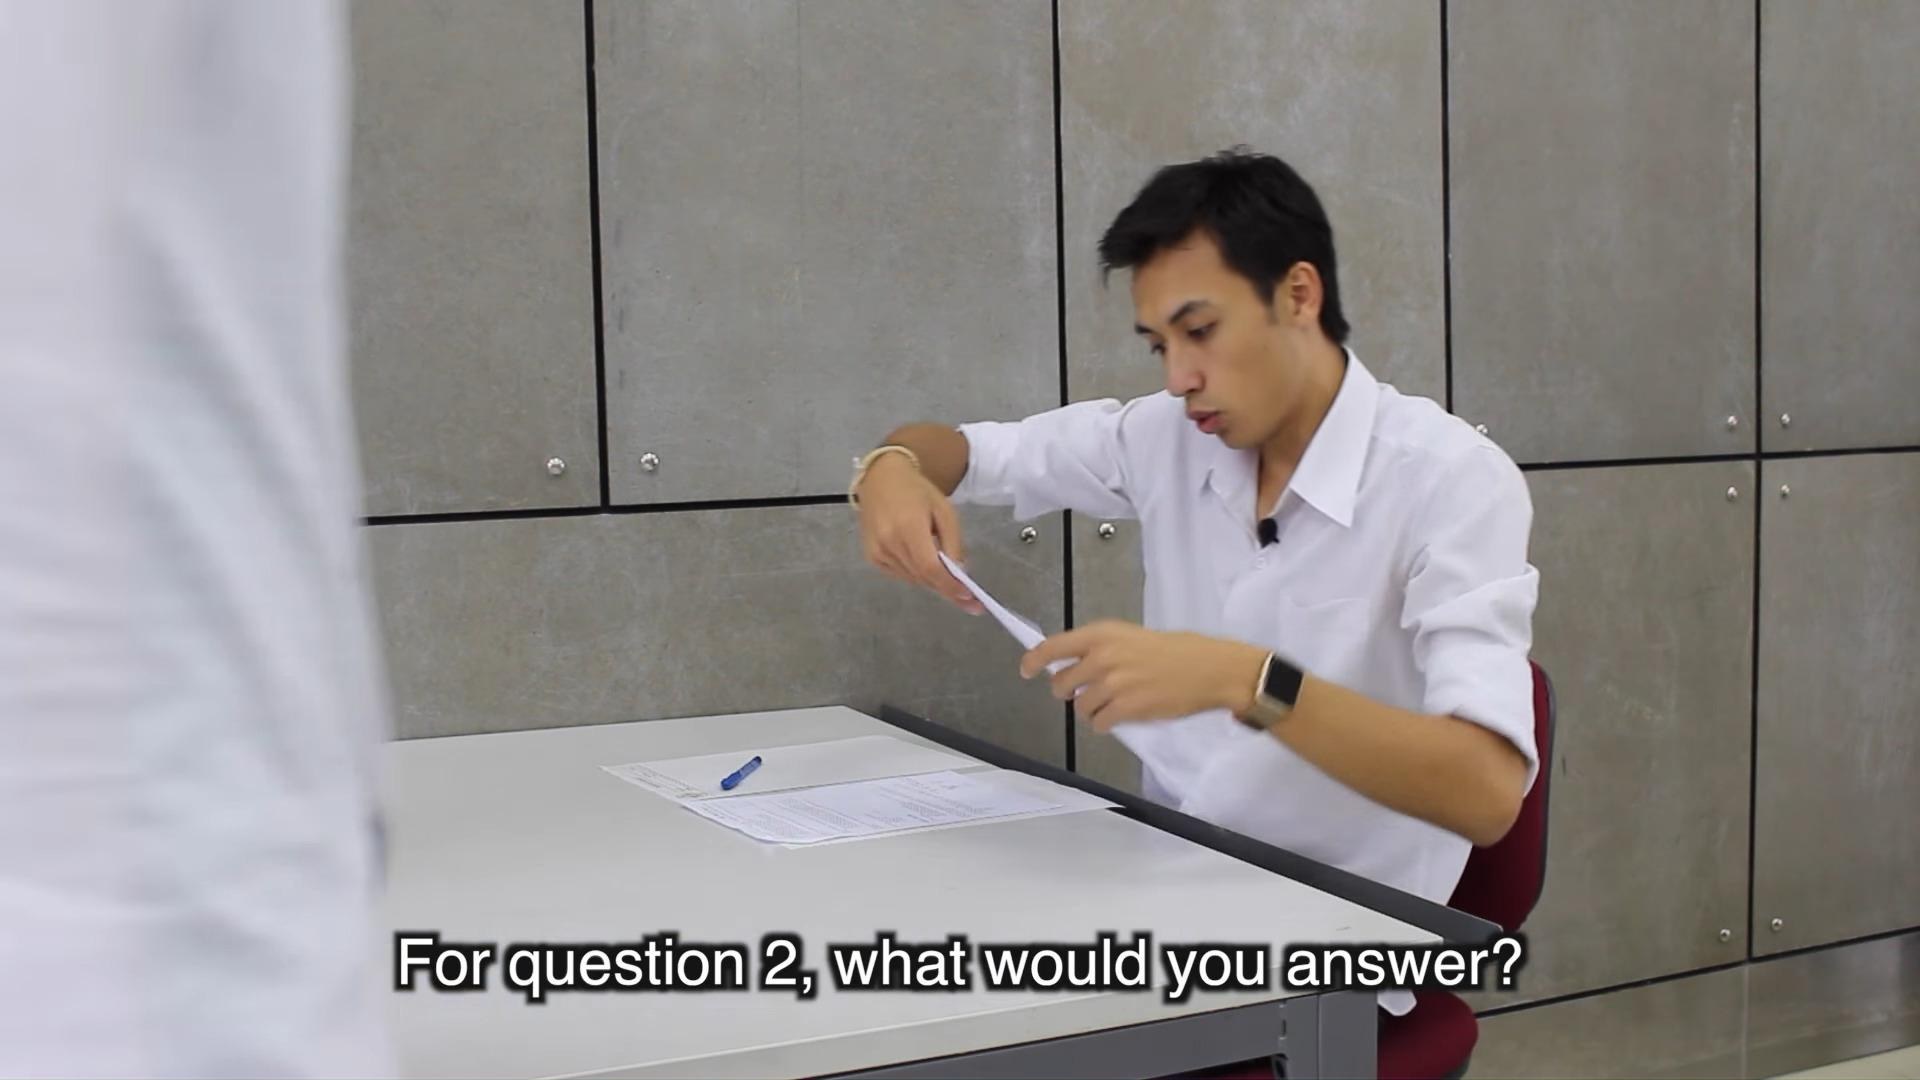good: (530, 141, 1571, 918)
